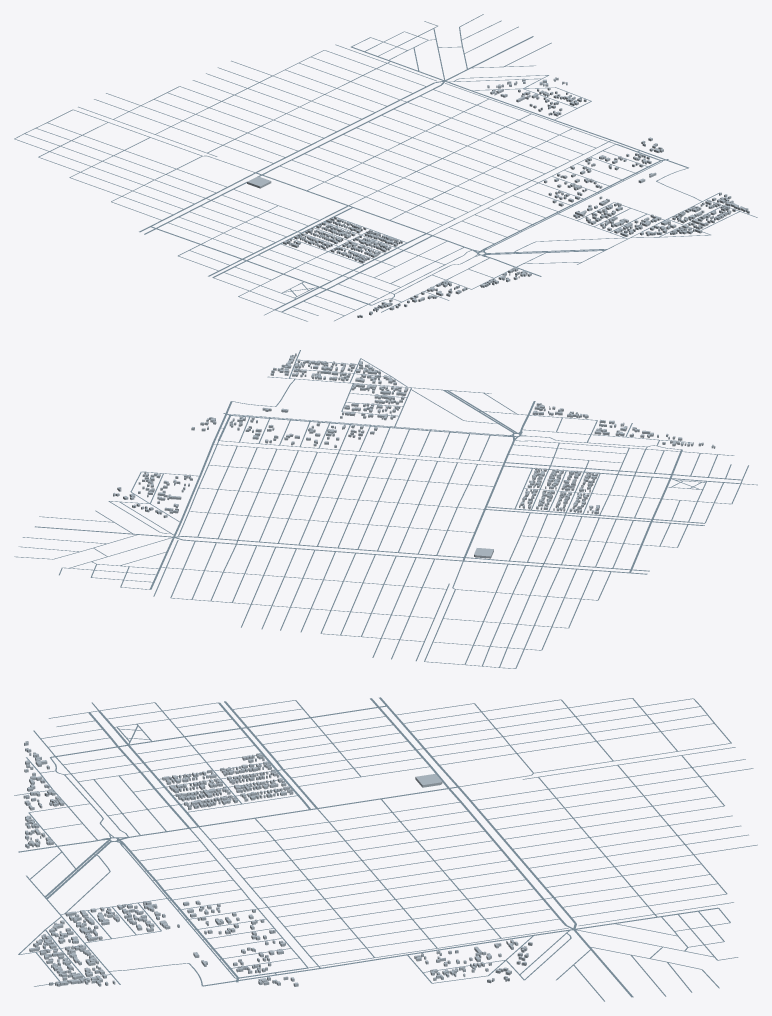
The picture shows the model from 3 angles, top to bottom: view 1: azimuth 30°, elevation 25°; view 2: azimuth 150°, elevation 25°; view 3: azimuth 270°, elevation 25°; orthographic projection. The views are drawn at different scales.
Bounding box in the file's own units: 2052 × 8 × 2120.
